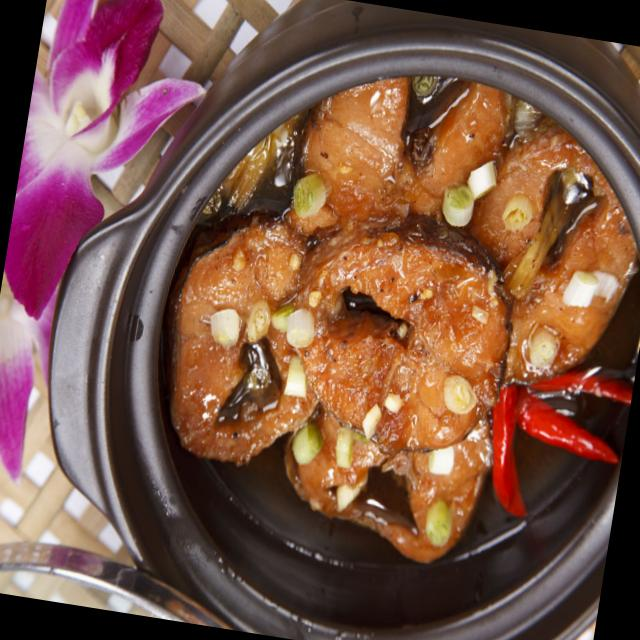ca kho: (168, 78, 638, 563)
